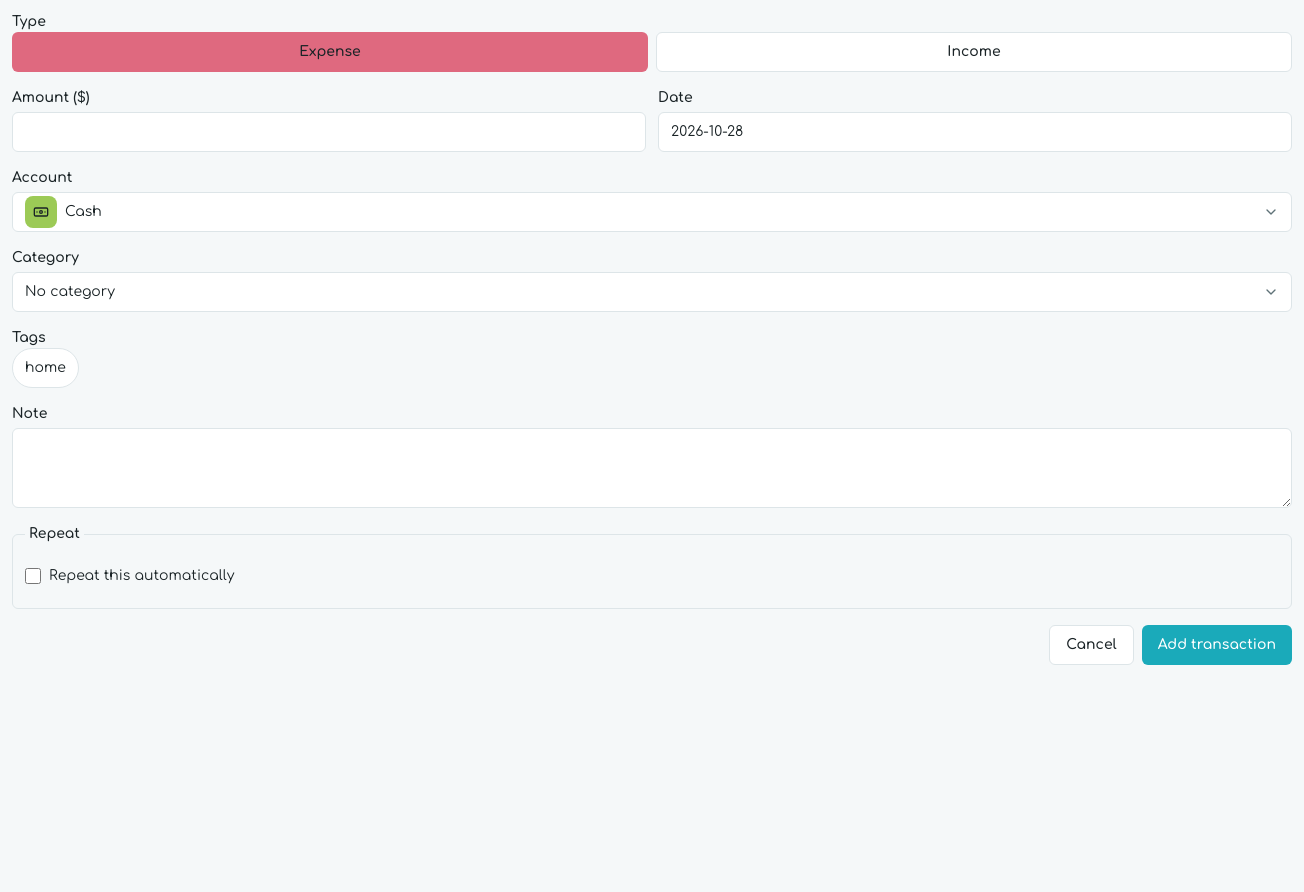
it: repeat section of the add forms › shows server errors on the repeat fields and the date
The image size is (1304, 892).
Type "5" into the field labelled "Amount ($)" at (329, 132), box [12, 112, 646, 152]
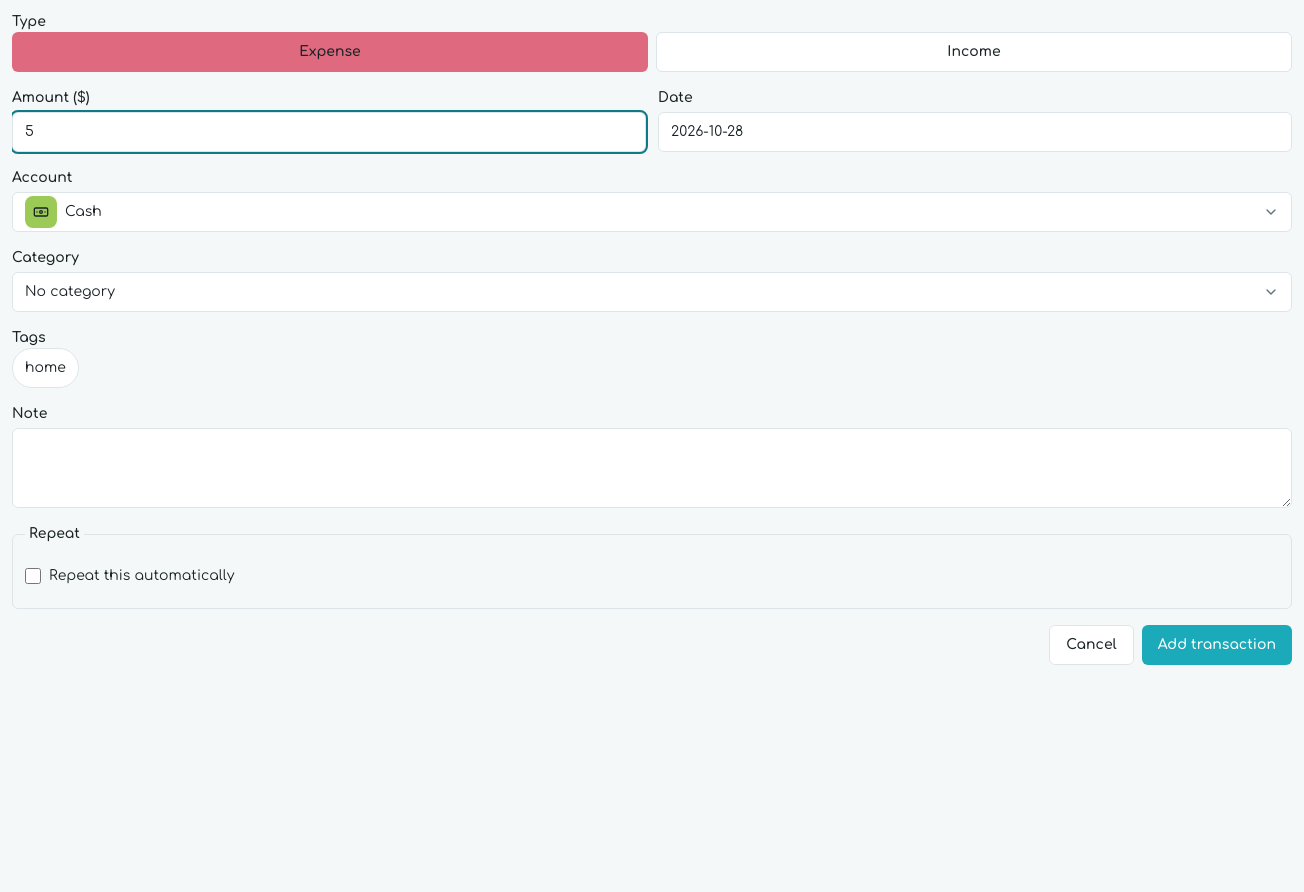
Click the checkbox labelled "Repeat this automatically" at (33, 576), box [25, 568, 41, 584]
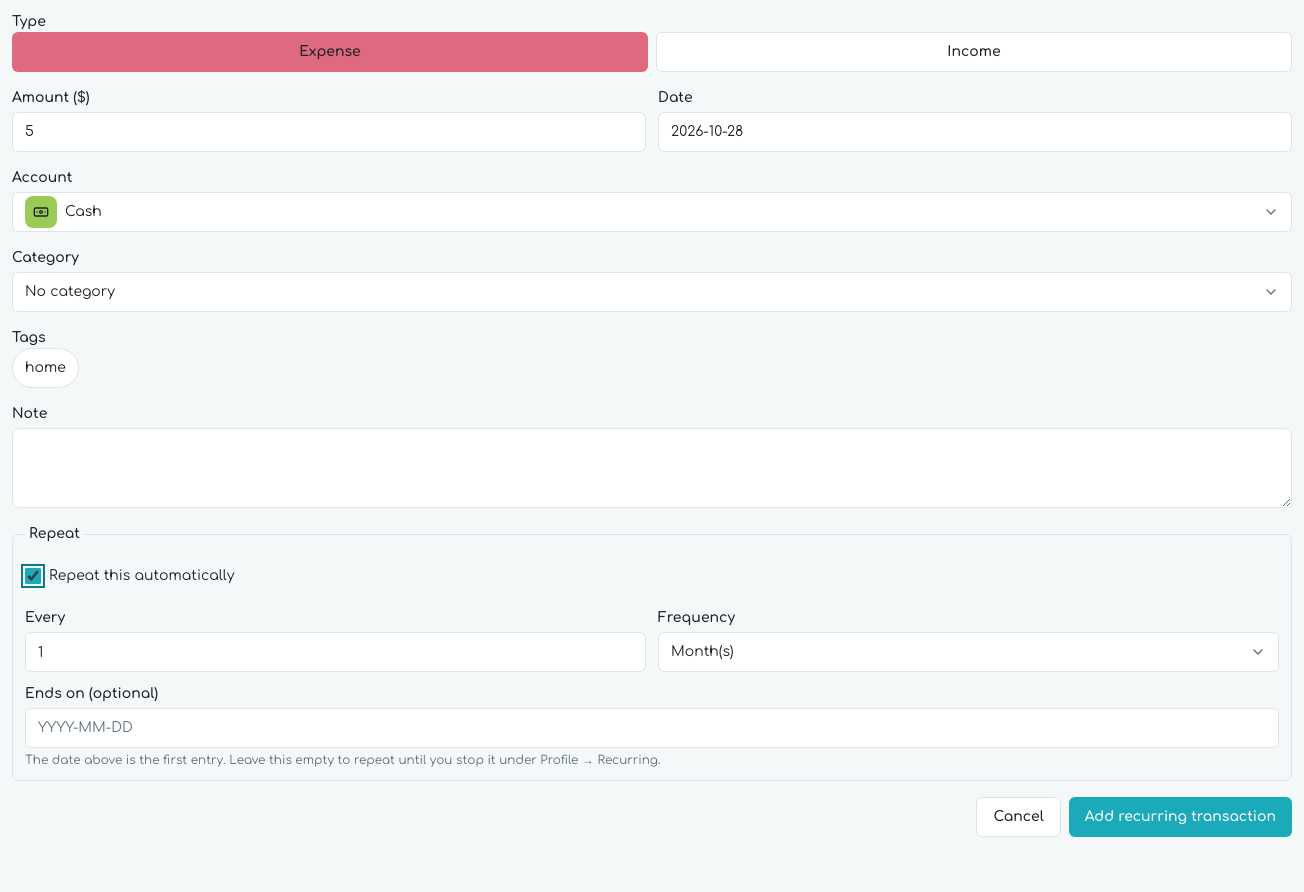
Type "2099-01-01" into the field labelled "Ends on (optional)" at (652, 728), box [25, 708, 1279, 748]
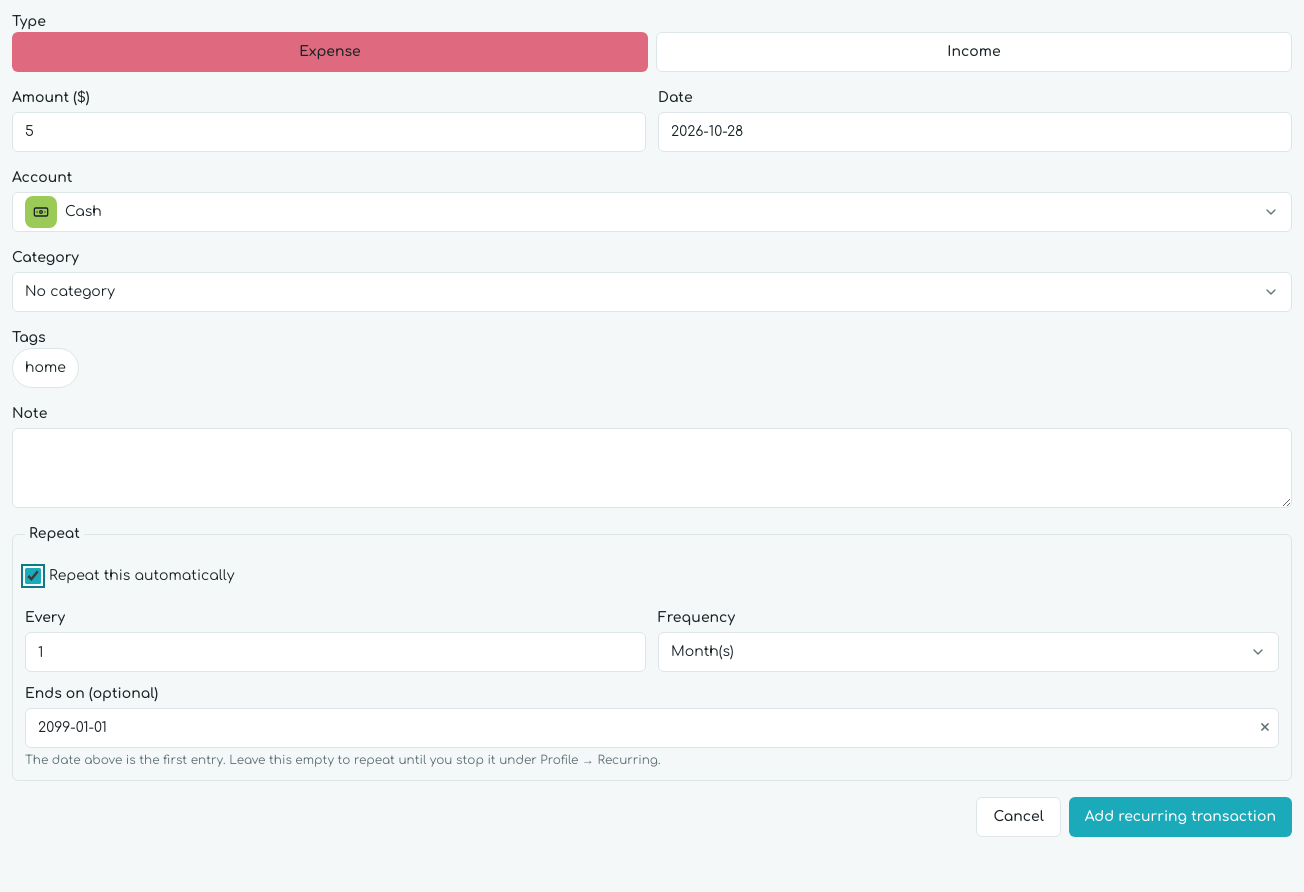
Click the button "Add recurring transaction" at (1180, 817), box [1069, 797, 1292, 837]
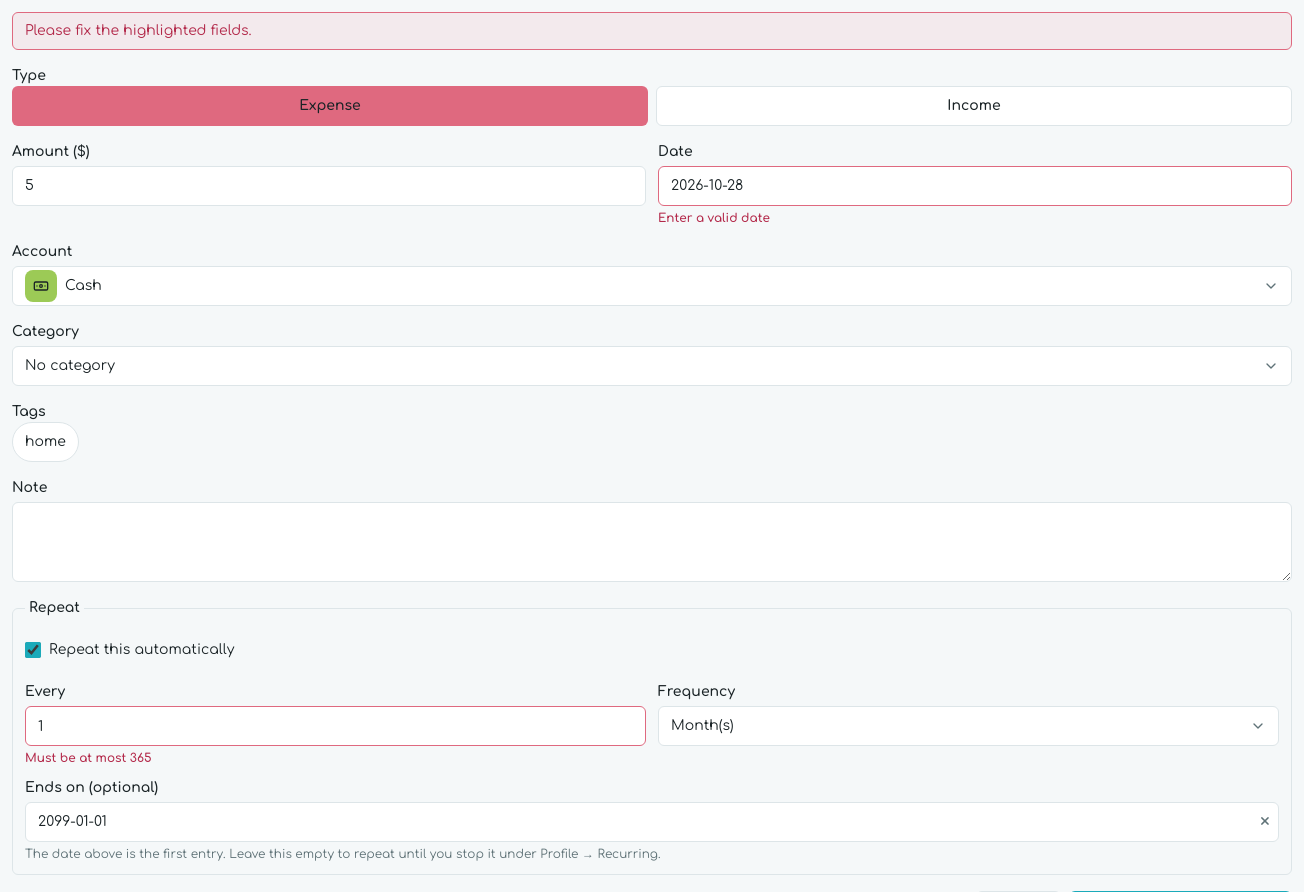
Check: the text "Must be at most 365" is shown, box [25, 751, 152, 765]
Check: the text "Enter a valid date" is shown, box [658, 211, 770, 225]
